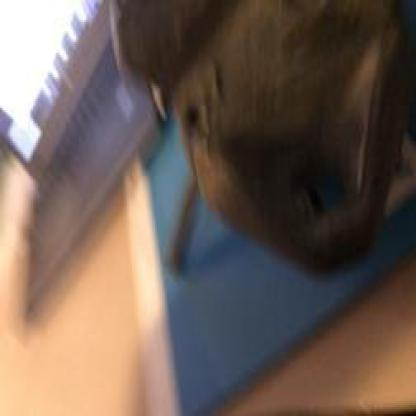Twistlock: (94, 0, 414, 308)
